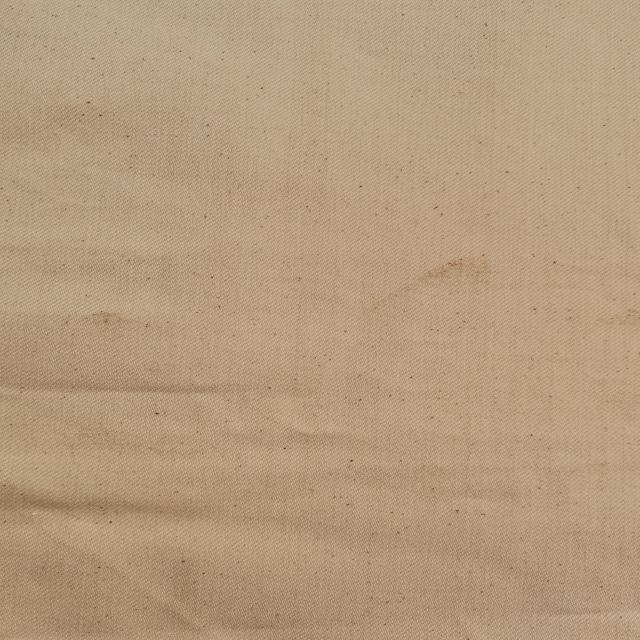taaaches: (368, 254, 500, 310), (76, 309, 138, 333)
